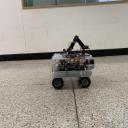cart: (50, 53, 96, 89)
